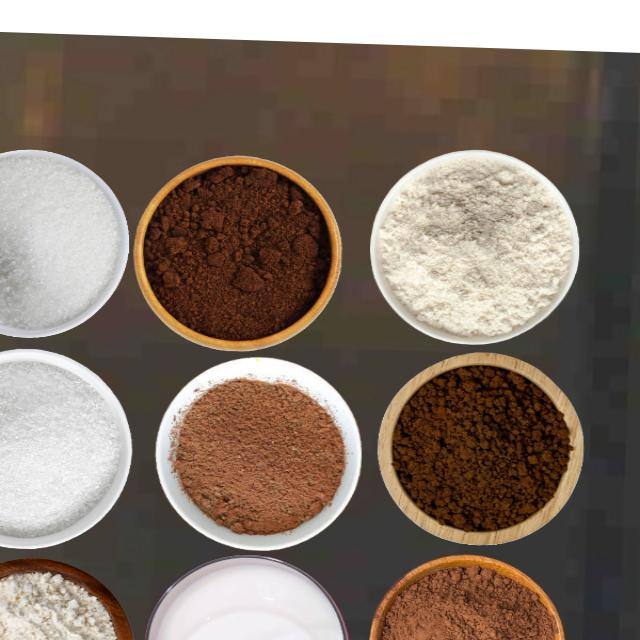Cocoa: (168, 375, 346, 535), (375, 543, 565, 640)
Coffee: (141, 160, 331, 341), (390, 363, 571, 532)
Flour: (377, 155, 572, 337), (0, 569, 116, 639)
Sugar: (0, 359, 121, 538), (0, 151, 119, 329)
